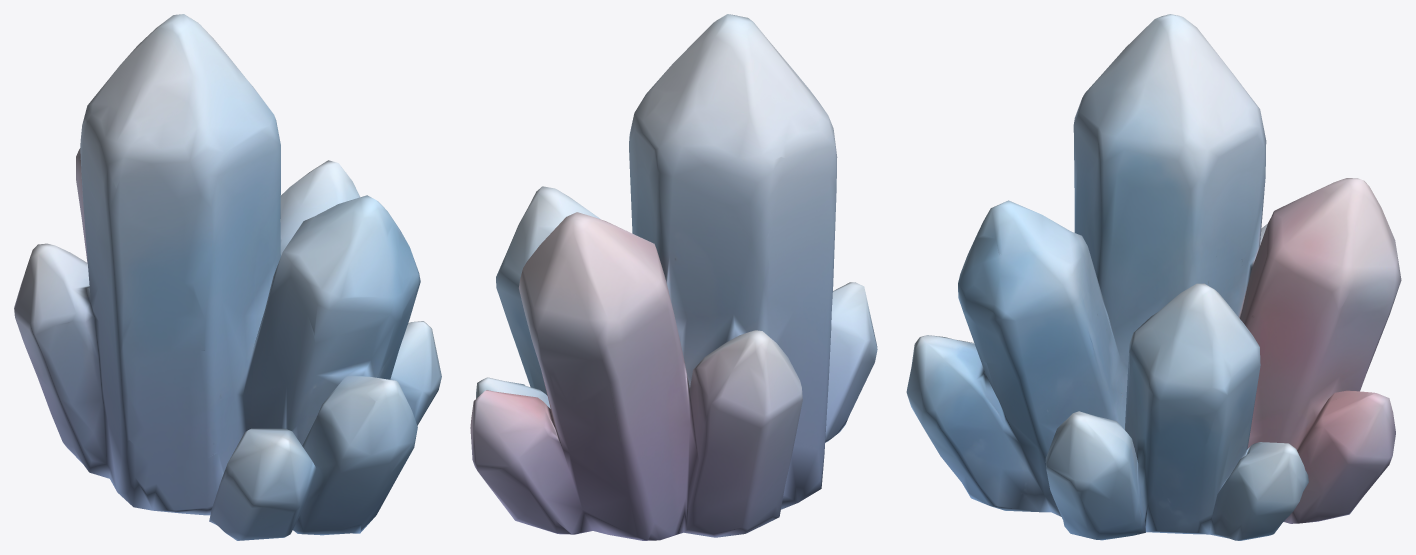
Rendered from crystal-cluster.glb.
The picture shows the model from 3 angles, left to right: view 1: azimuth 30°, elevation 25°; view 2: azimuth 150°, elevation 25°; view 3: azimuth 270°, elevation 25°; orthographic projection. The views are drawn at different scales.
Visible parts, largest first — view 1: tripo_node_fdb8b359-c6a8-4116-b427-4858e2928cf8; view 2: tripo_node_fdb8b359-c6a8-4116-b427-4858e2928cf8; view 3: tripo_node_fdb8b359-c6a8-4116-b427-4858e2928cf8.
Boxes of the visible parts, <box> form: tripo_node_fdb8b359-c6a8-4116-b427-4858e2928cf8: <box>14,14,441,540</box>; tripo_node_fdb8b359-c6a8-4116-b427-4858e2928cf8: <box>470,14,877,540</box>; tripo_node_fdb8b359-c6a8-4116-b427-4858e2928cf8: <box>906,14,1401,540</box>.
Size of the model in its own units: 0.7281 by 1 by 1.
Materials: 1 (1 with a texture image).
